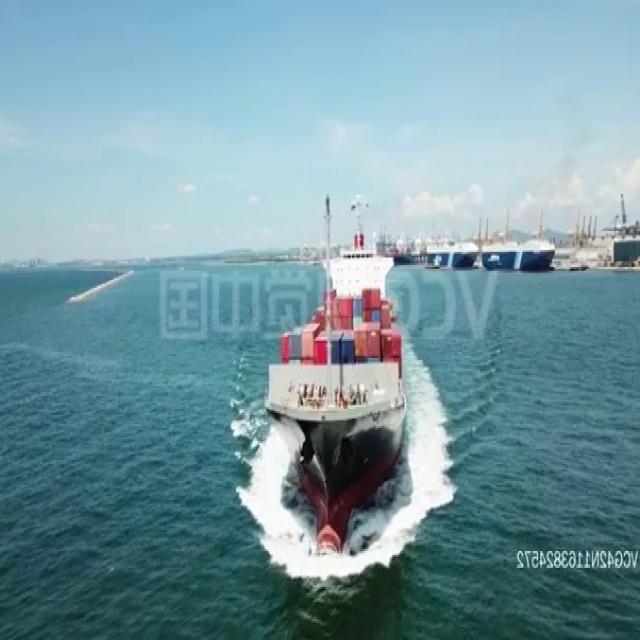cargoship: (265, 188, 412, 559)
